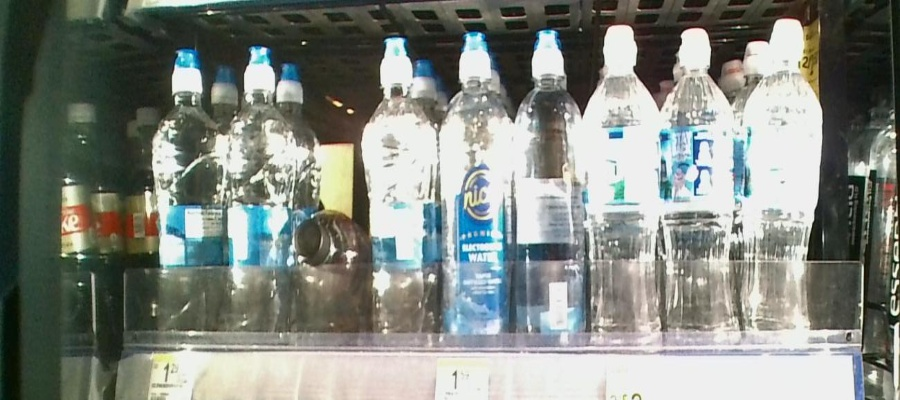bottle: (744, 16, 822, 349), (663, 23, 737, 349), (589, 27, 660, 345), (364, 36, 440, 326), (516, 29, 586, 341), (151, 42, 221, 333), (447, 31, 511, 339), (228, 46, 292, 344), (296, 196, 358, 326)
